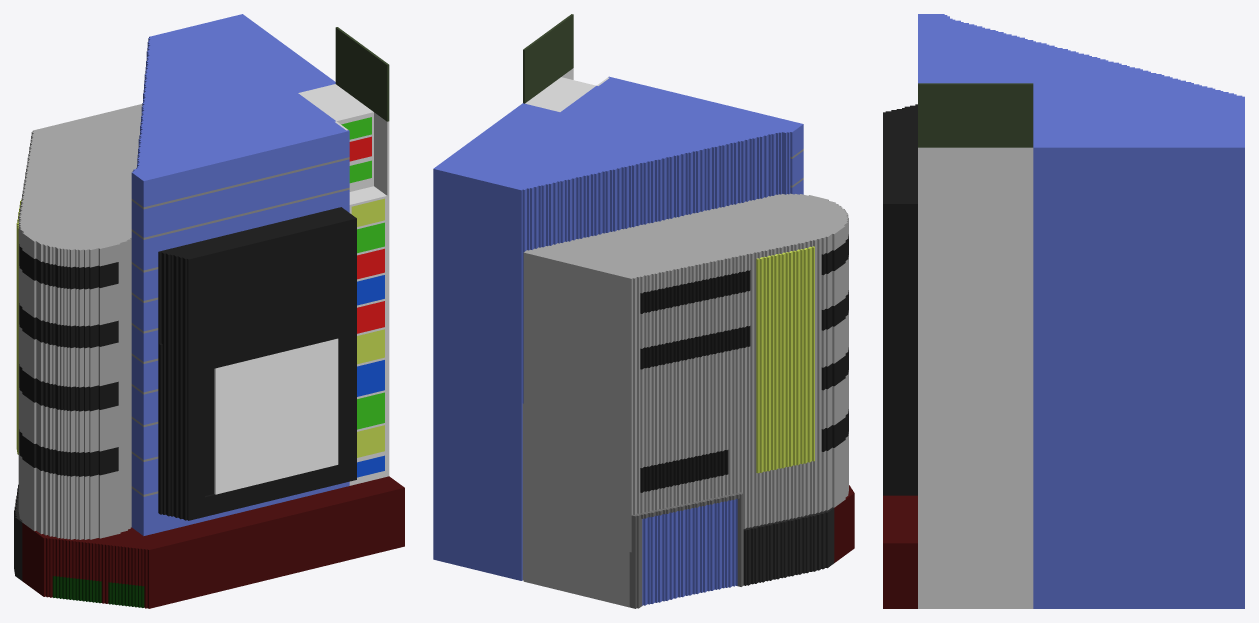
File: magnet.obj
The picture shows the model from 3 angles, left to right: view 1: azimuth 30°, elevation 25°; view 2: azimuth 150°, elevation 25°; view 3: azimuth 270°, elevation 25°; orthographic projection. The views are drawn at different scales.
Bounding box in the file's own units: 15.5 × 21.6 × 13.5.
1 material, 1 textured.
